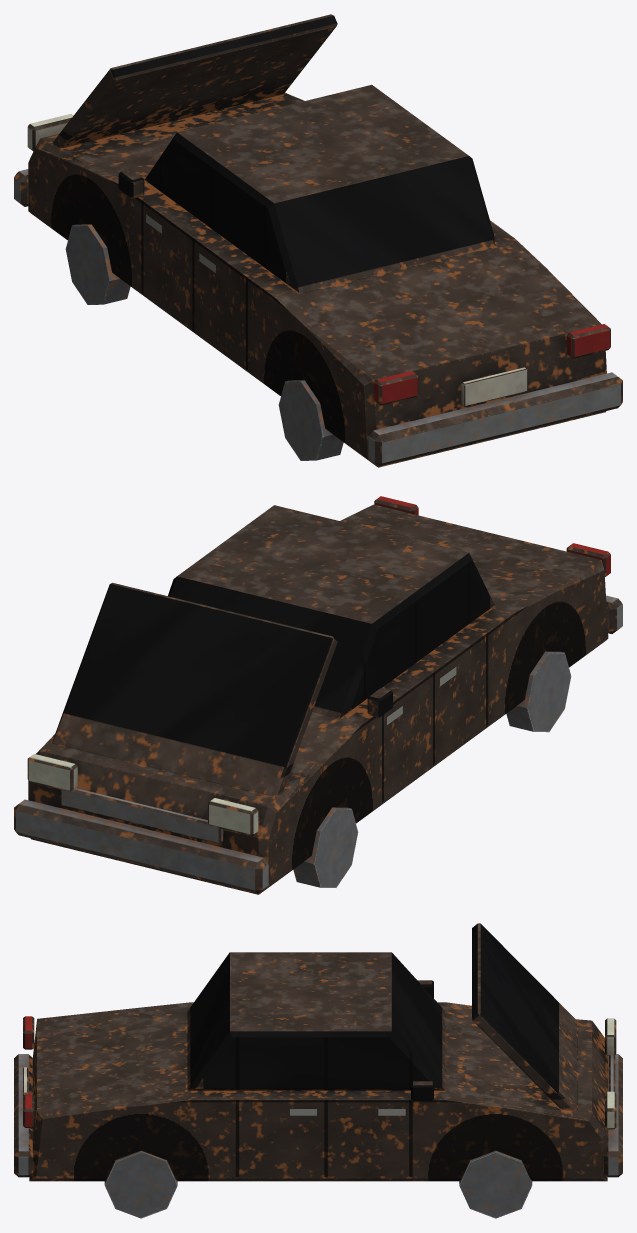
Rendered from Coche_Sedan_Quemado.glb.
The picture shows the model from 3 angles, top to bottom: view 1: azimuth 30°, elevation 25°; view 2: azimuth 150°, elevation 25°; view 3: azimuth 270°, elevation 25°; orthographic projection. The views are drawn at different scales.
Parts seen in each view (by area): view 1: Coche_Sedan_Quemado; view 2: Coche_Sedan_Quemado; view 3: Coche_Sedan_Quemado.
Part boxes in pixels (x1=…): Coche_Sedan_Quemado: x1=14, y1=14, x2=622, y2=467; Coche_Sedan_Quemado: x1=14, y1=496, x2=622, y2=894; Coche_Sedan_Quemado: x1=14, y1=923, x2=622, y2=1218.
Bounding box in the file's own units: 6.55 × 5.73 × 15.8.
1 material, 1 textured.
